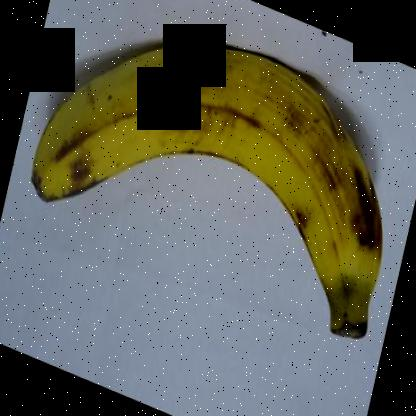ripe: (29, 27, 388, 358)
